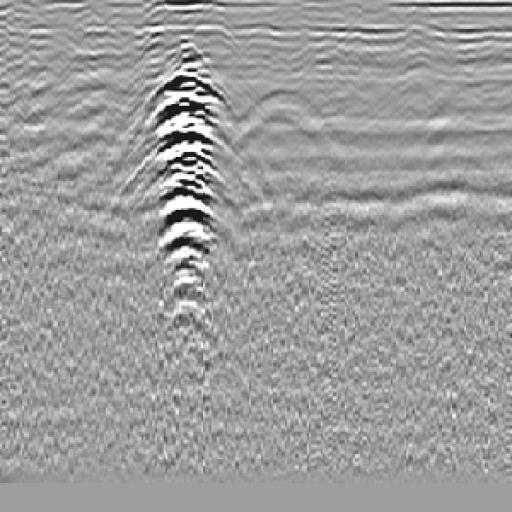metalic: (141, 40, 231, 336)
nonmetalic: (226, 89, 348, 176)
